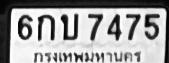4: (106, 12, 120, 40)
5: (143, 13, 159, 39)
6: (17, 13, 32, 39)
7: (87, 13, 102, 40), (125, 13, 140, 39)
A01: (37, 13, 54, 40)
A26: (60, 12, 78, 39)
BKK: (29, 49, 145, 63)
